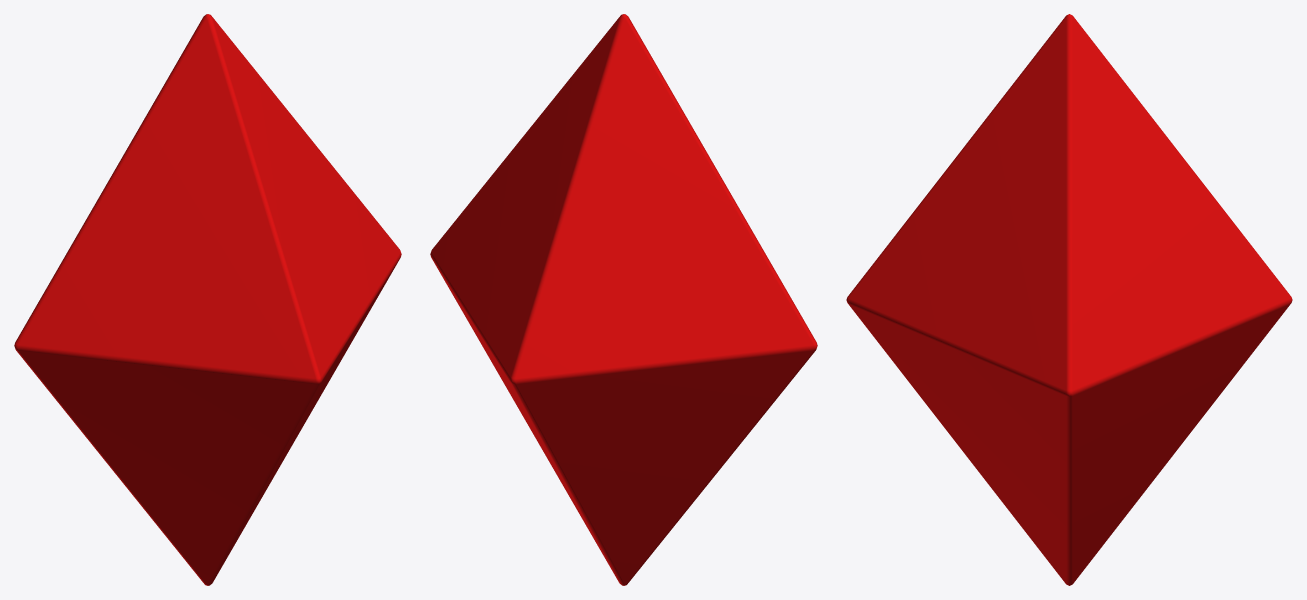
3 renders of one model, left to right at view 1: azimuth 30°, elevation 25°; view 2: azimuth 150°, elevation 25°; view 3: azimuth 270°, elevation 25°, orthographic.
Visible parts, largest first — view 1: Tetragonal_Pyramid; view 2: Tetragonal_Pyramid; view 3: Tetragonal_Pyramid.
Part boxes in pixels (x1,y1,x2,y2): Tetragonal_Pyramid: (14,14,401,585); Tetragonal_Pyramid: (430,14,817,585); Tetragonal_Pyramid: (846,14,1292,585).
Bounding box in the file's own units: 6.97 × 9.86 × 6.97.
1 material, 1 textured.
